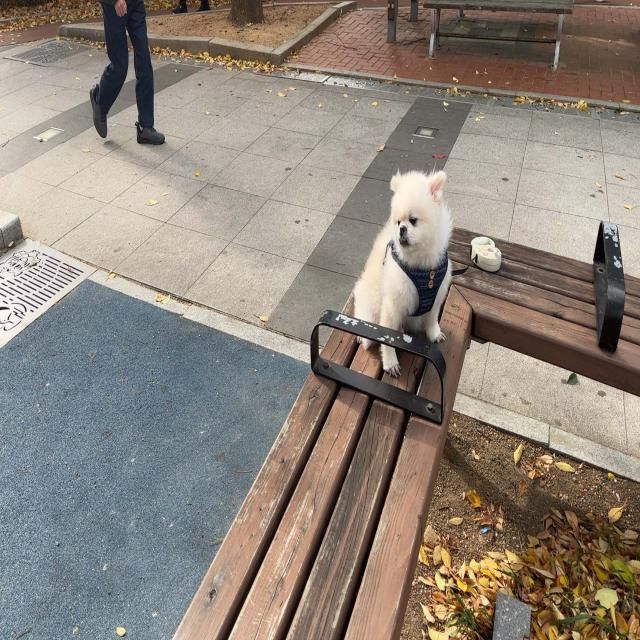Dog: (354, 162, 454, 376)
